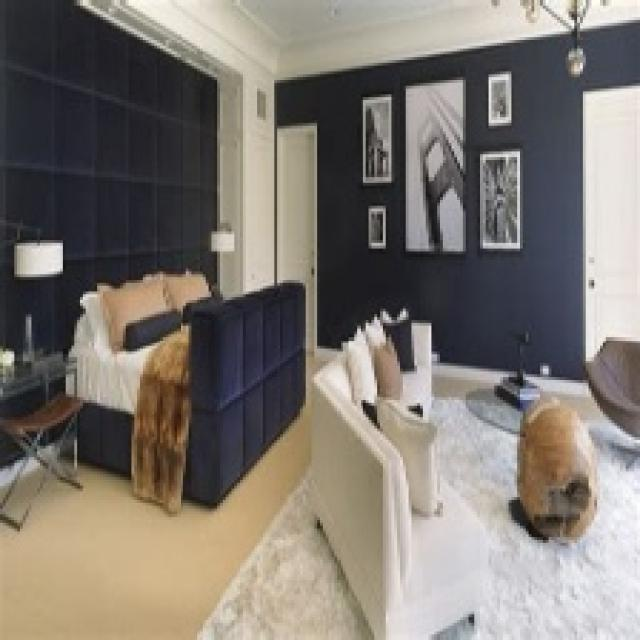Bed: (63, 272, 306, 514)
